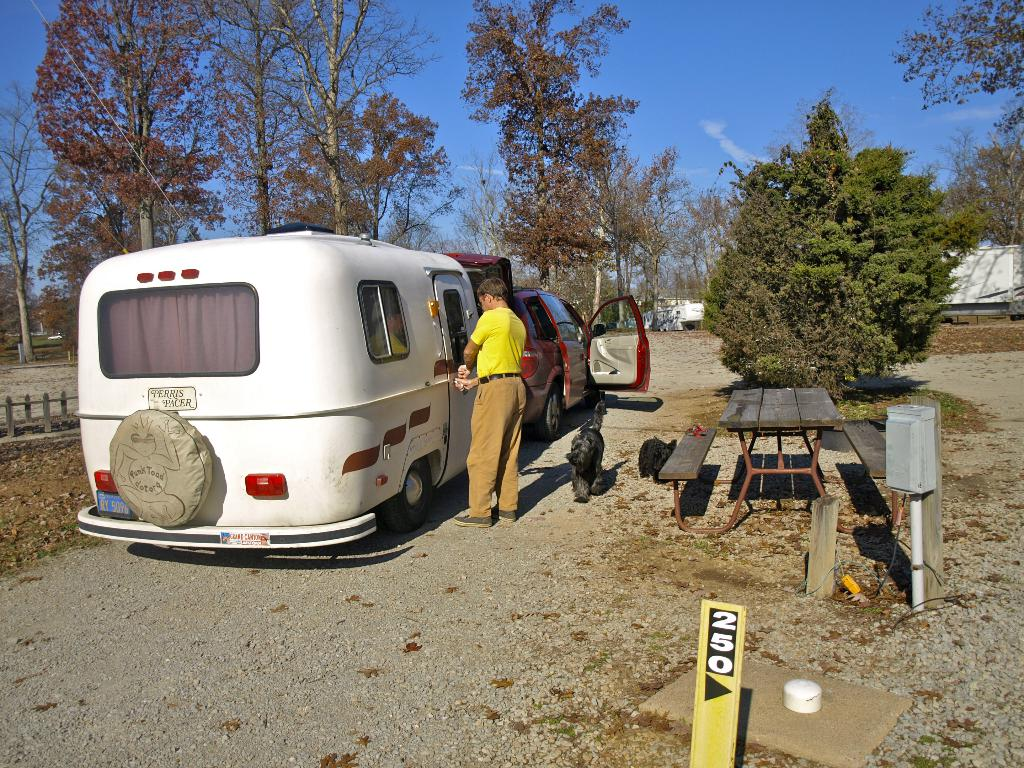cars: (445, 253, 654, 439)
